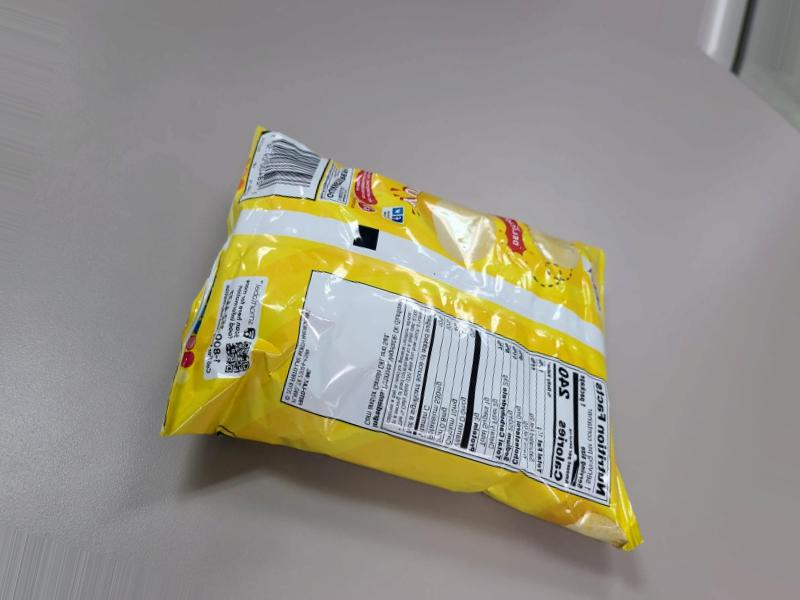lays: (259, 105, 670, 600)
